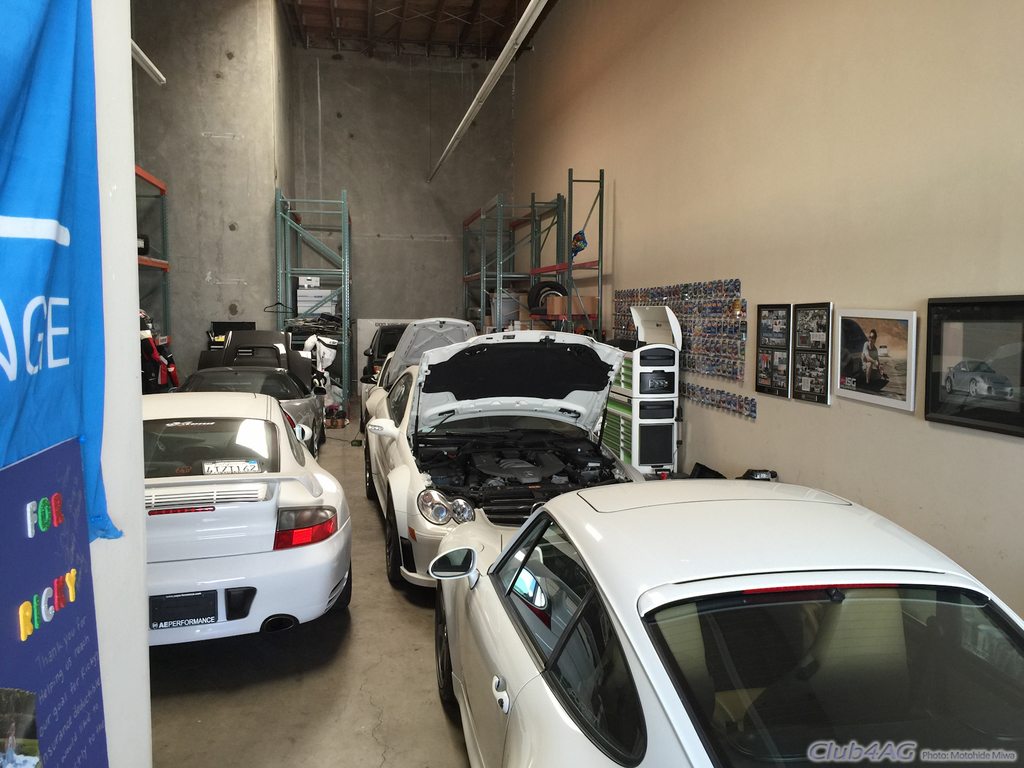Car: (428, 473, 1023, 767), (365, 333, 645, 589), (139, 385, 353, 646), (175, 363, 328, 456), (356, 315, 414, 384)
